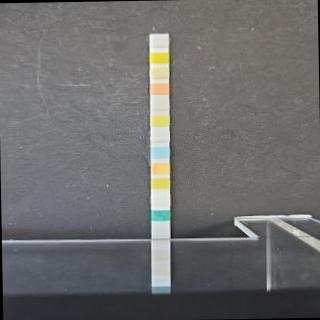mark: (150, 98, 170, 111), (150, 192, 170, 205), (150, 209, 170, 222), (149, 36, 169, 48), (148, 52, 168, 64), (149, 66, 169, 78), (150, 130, 170, 142), (150, 162, 170, 174), (150, 81, 168, 94), (150, 114, 169, 126), (150, 146, 169, 158), (151, 178, 170, 188)
